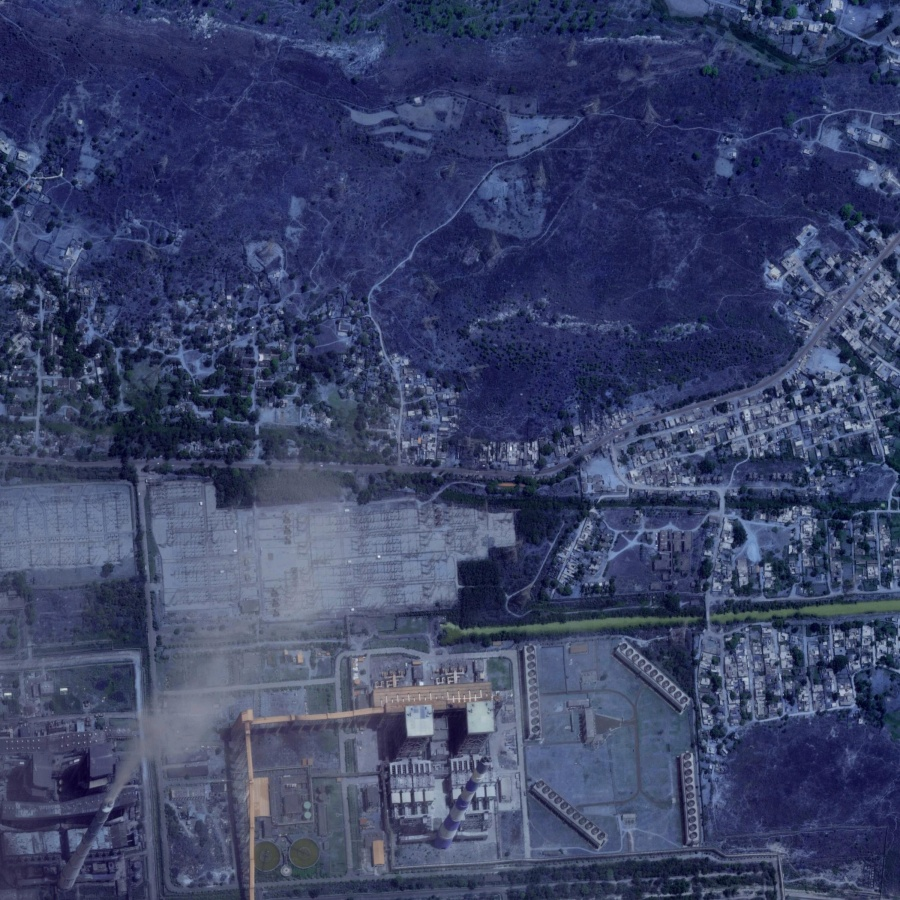PowerPlant: (382, 683, 506, 863)
